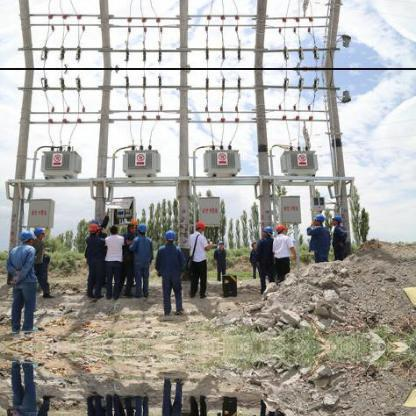helmet: (18, 226, 35, 241), (164, 230, 177, 240), (31, 227, 45, 236), (314, 213, 327, 222), (274, 224, 286, 233), (126, 218, 139, 226), (261, 226, 274, 234), (331, 217, 342, 226), (195, 221, 204, 231), (138, 224, 148, 233), (88, 224, 94, 234)
